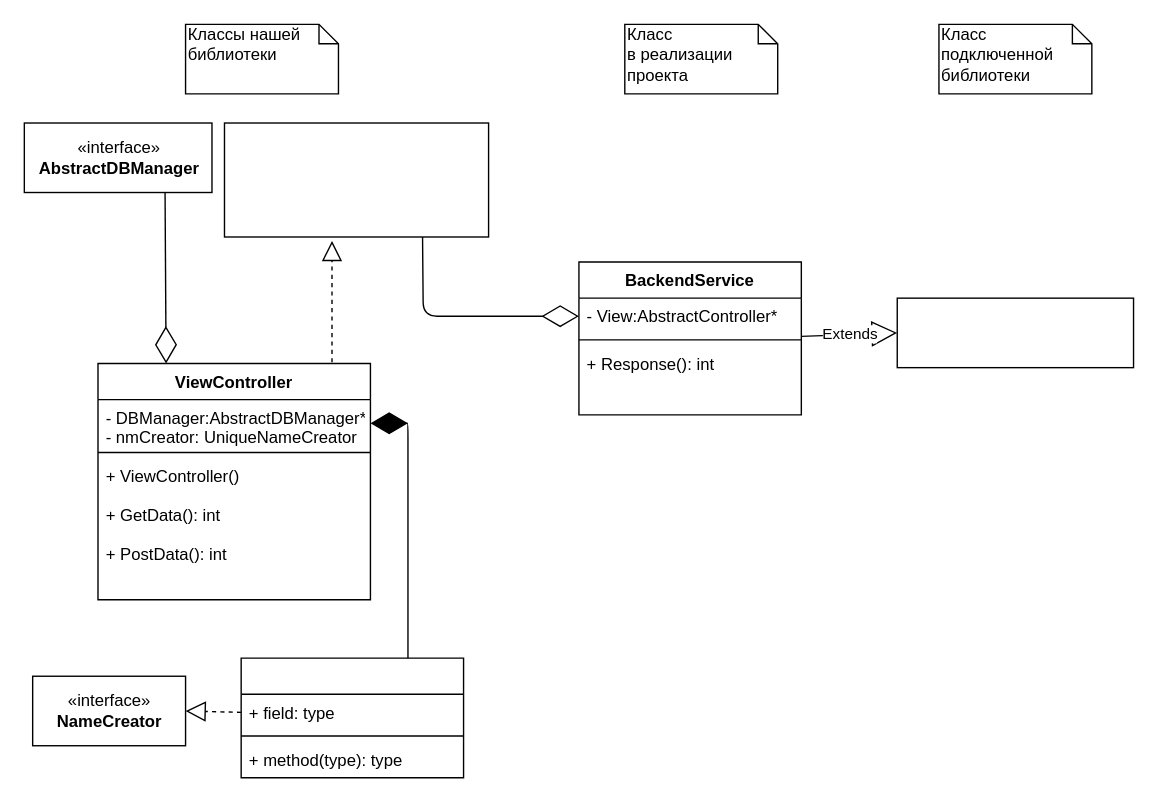
Image size: 1158x806. Some labels were removed from this diagram. The shapes that lost their labels are listed below. From the top down, each one's box as (x1, y1, x2, y2) in pixels, then its label:
(223, 122, 489, 237): <<Interface>> AbstractController + PostData() : int + GetData(): int
(896, 297, 1134, 368): CPPCMS::APPLICATION
(240, 657, 464, 778): UniqueNameMaker
